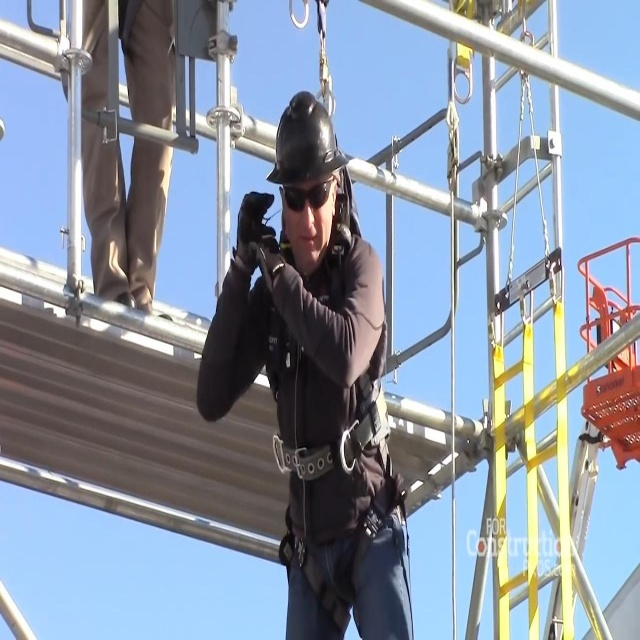Arnes_seguridad: (258, 138, 412, 613)
